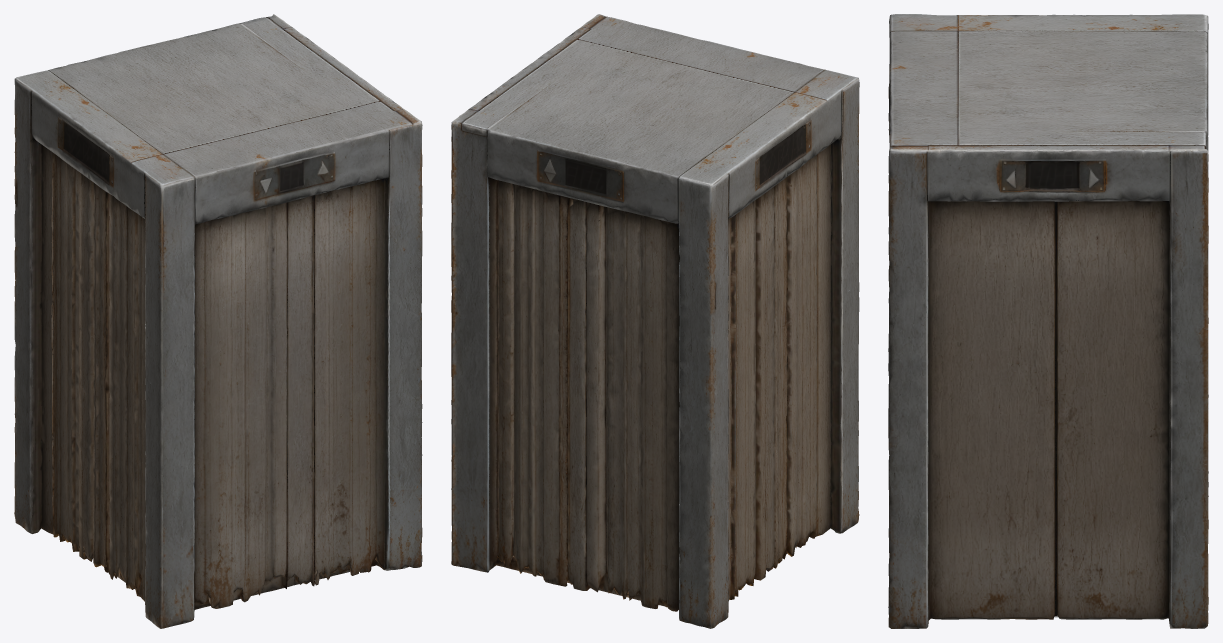
The model's file is ElevatorDoor.fbx.
3 renders of one model, left to right at view 1: azimuth 30°, elevation 25°; view 2: azimuth 150°, elevation 25°; view 3: azimuth 270°, elevation 25°, orthographic. The views are drawn at different scales.
Parts seen in each view (by area): view 1: texture_mapping; view 2: texture_mapping; view 3: texture_mapping.
Part boxes in pixels (x1,y1,x2,y2): texture_mapping: (14,14,422,628); texture_mapping: (451,14,859,628); texture_mapping: (888,14,1208,628).
Bounding box in the file's own units: 0.6179 × 0.6077 × 1.
1 material, 1 textured.
